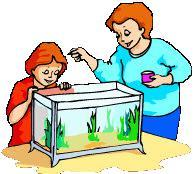person: (72, 1, 189, 141), (2, 38, 73, 145)
